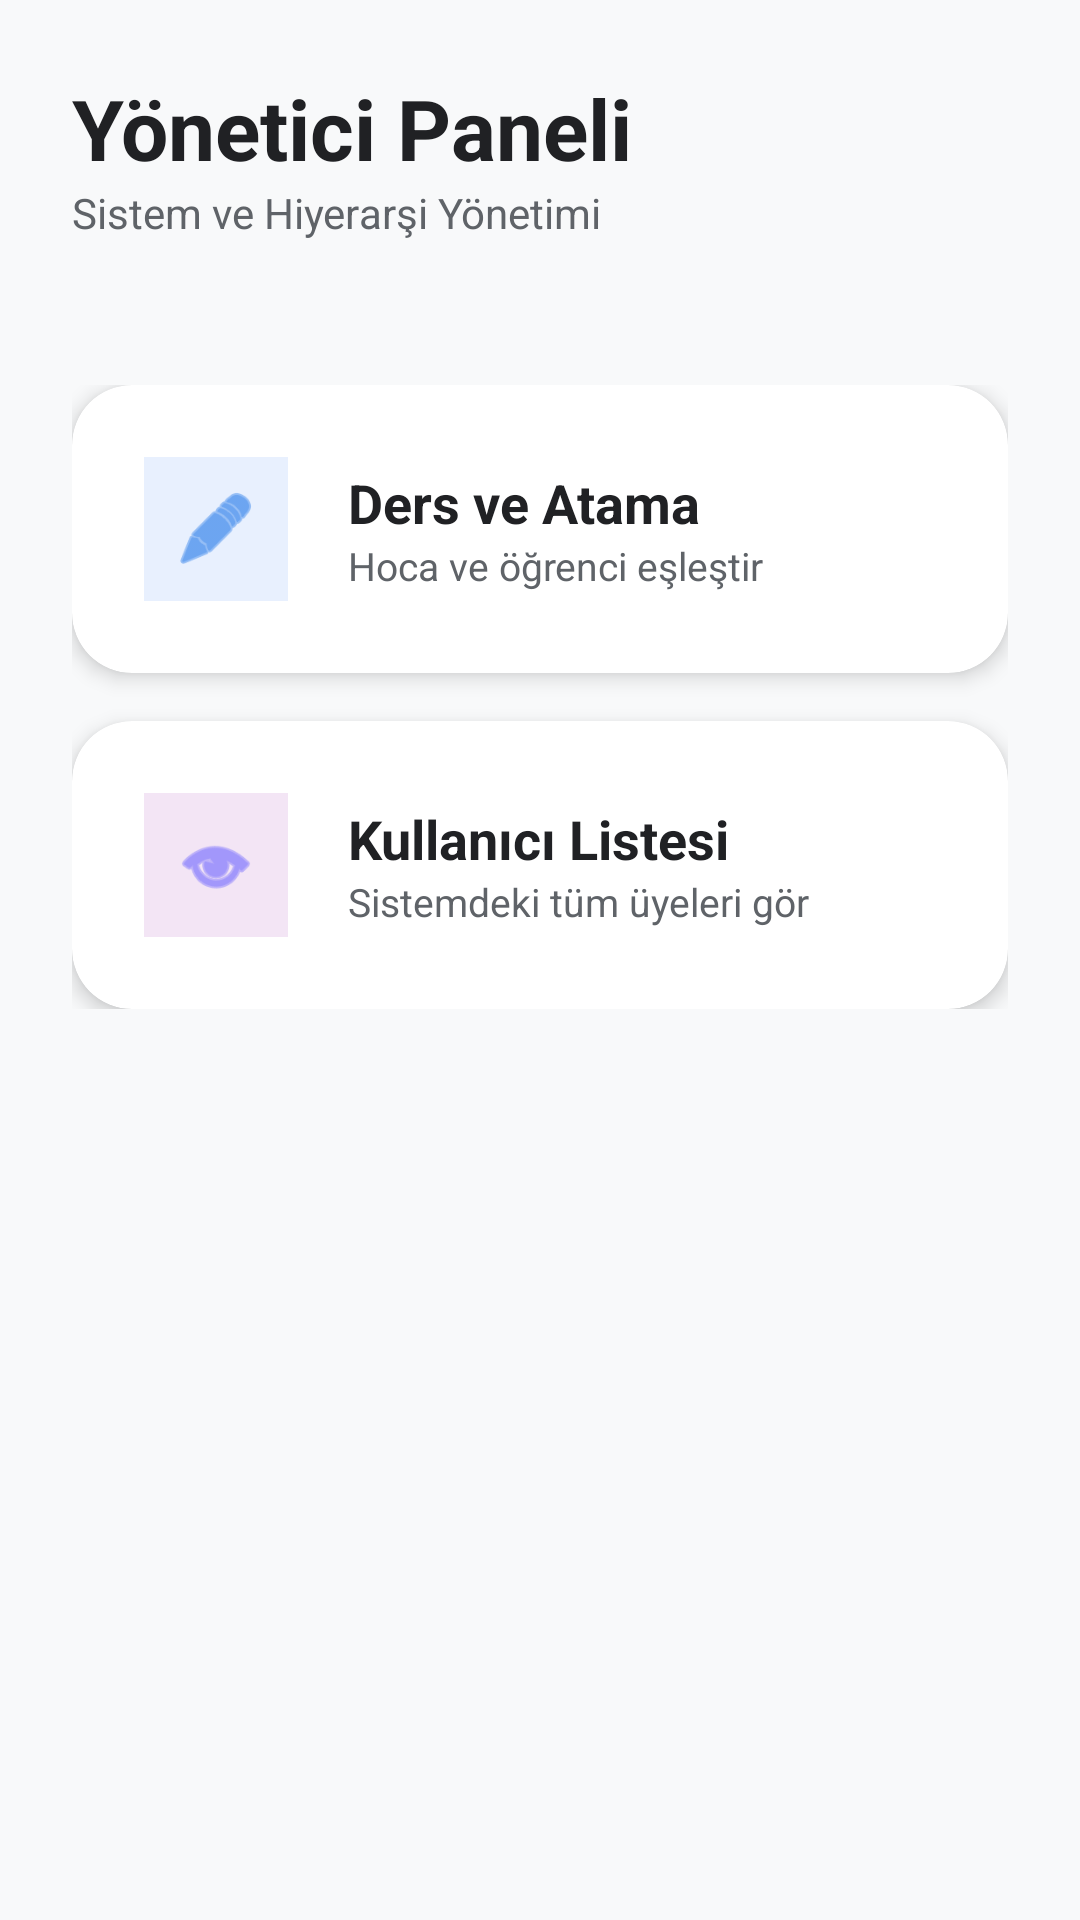

Icons on this 1080×1920 Android screen, each with the point to tap as point (x, y):
Manage Lessons: point (216, 529)
